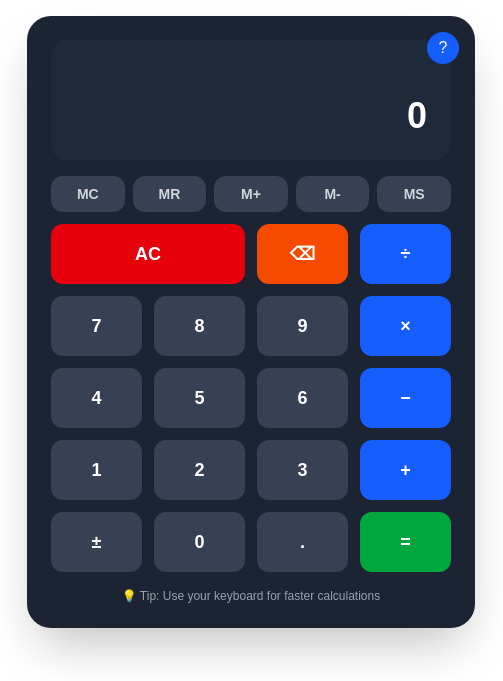
Scenario: Calculator Component › Number Input › should start with 0. when decimal is first input
Click the button named "Decimal" at (302, 542), box left=257, top=512, right=348, bottom=572
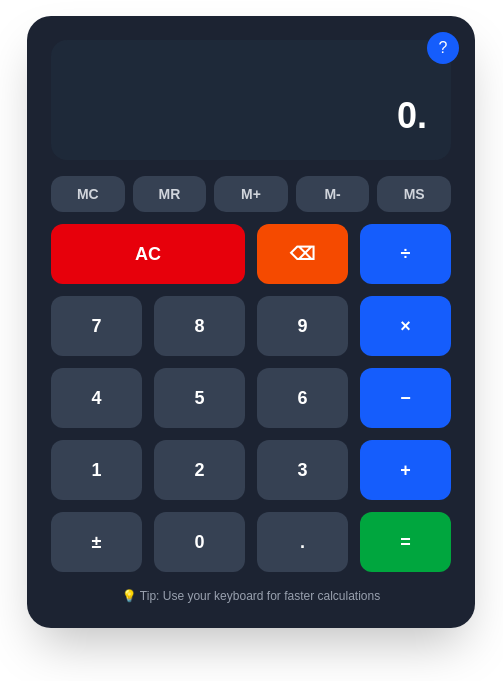
Click the button "5" at (200, 398), box left=154, top=368, right=245, bottom=428
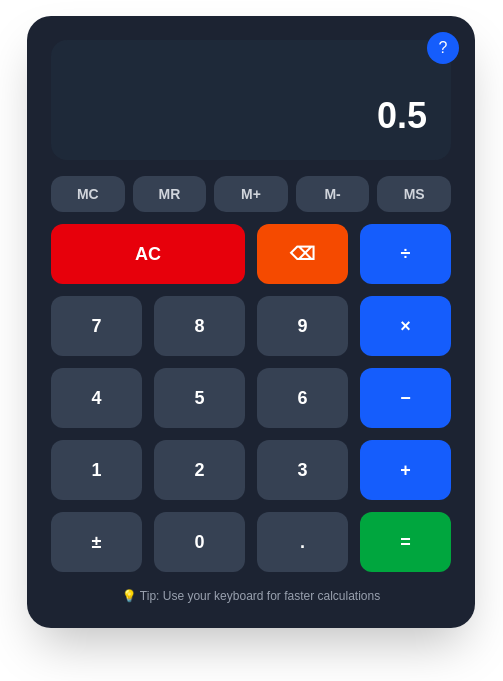
Check: the text "0.5" is shown, box left=377, top=95, right=427, bottom=136
